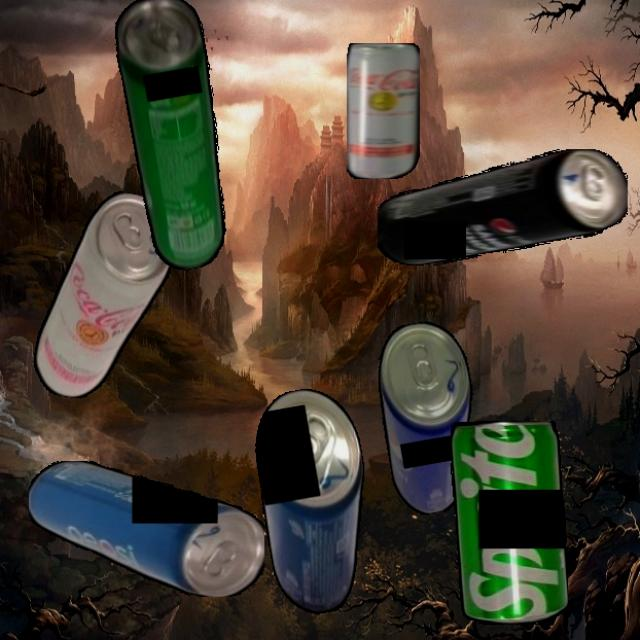debris: (108, 0, 244, 275), (29, 182, 182, 411), (244, 382, 388, 619), (28, 461, 264, 597), (377, 149, 628, 266), (367, 316, 492, 518), (450, 421, 568, 624), (347, 42, 420, 179)
